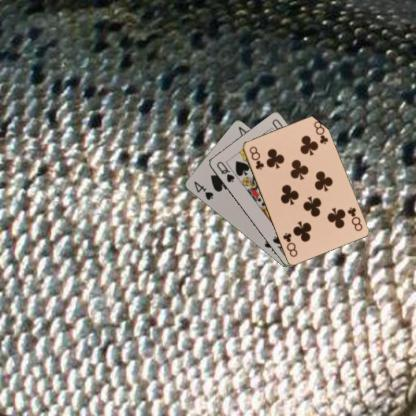4s: (192, 178, 214, 202)
8c: (344, 204, 364, 232), (247, 143, 265, 171)
Qs: (214, 159, 236, 184)
